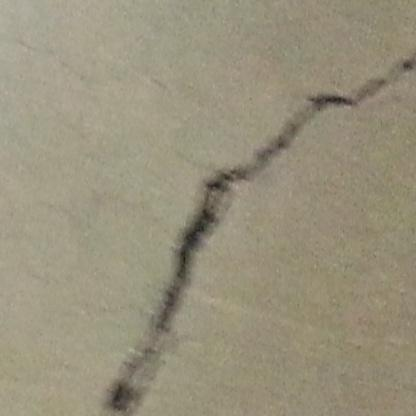Cracks: (90, 76, 391, 416), (397, 29, 416, 79)
